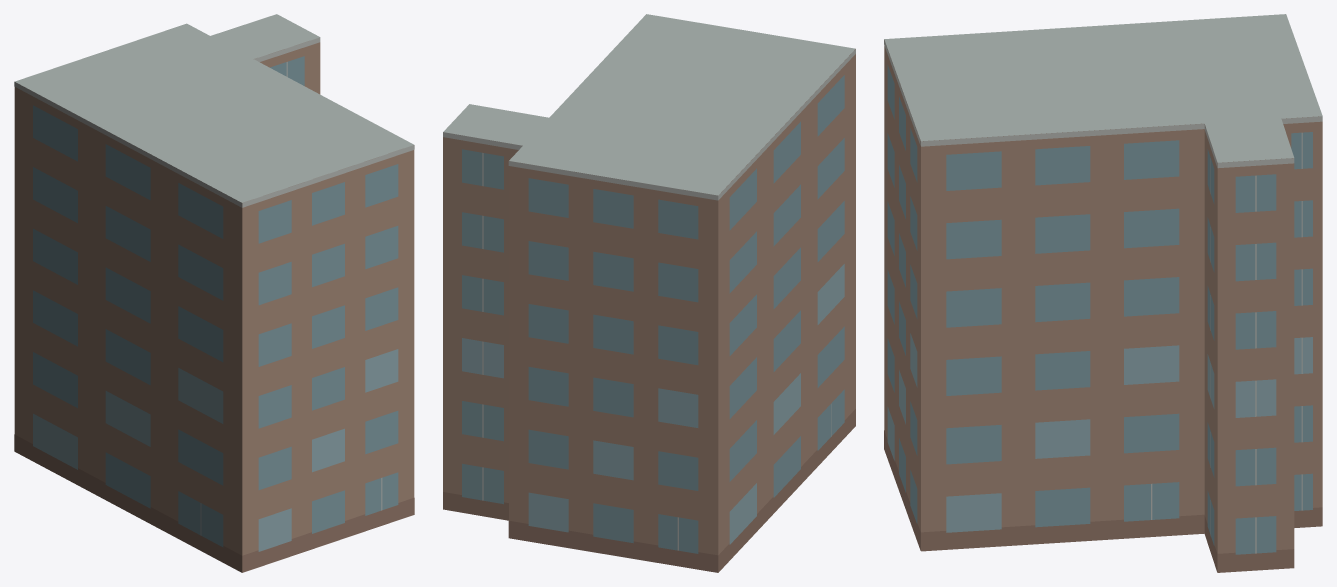
The model's file is survey-upis-32926960.glb.
The picture shows the model from 3 angles, left to right: view 1: azimuth 30°, elevation 25°; view 2: azimuth 150°, elevation 25°; view 3: azimuth 270°, elevation 25°; orthographic projection. The views are drawn at different scales.
Parts seen in each view (by area): view 1: survey-upis-32926960.tmp; view 2: survey-upis-32926960.tmp; view 3: survey-upis-32926960.tmp.
Part boxes in pixels (box(x1,y1,x2,y2)): survey-upis-32926960.tmp: box(14, 14, 414, 572); survey-upis-32926960.tmp: box(443, 14, 855, 572); survey-upis-32926960.tmp: box(884, 14, 1322, 572).
Size of the model in its own units: 14.24 by 18.3 by 17.74.
